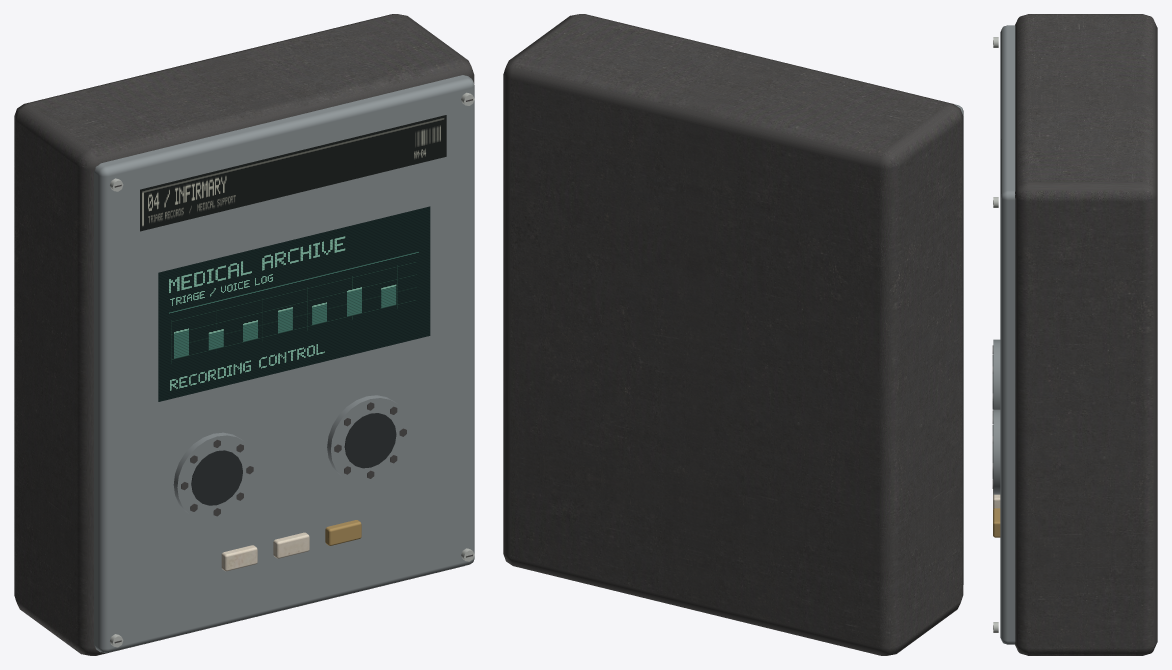
File: triage-recorder.glb
The picture shows the model from 3 angles, left to right: view 1: azimuth 30°, elevation 25°; view 2: azimuth 150°, elevation 25°; view 3: azimuth 270°, elevation 25°; orthographic projection. The views are drawn at different scales.
Visible parts, largest first — view 1: wall-housing; view 2: wall-housing; view 3: wall-housing.
Boxes of the visible parts, left/top/right/bottom form: wall-housing: left=14, top=14, right=474, bottom=655; wall-housing: left=503, top=14, right=963, bottom=655; wall-housing: left=992, top=14, right=1157, bottom=655.
Size of the model in its own units: 0.8 by 0.98 by 0.31.
Materials: 8 (4 with a texture image).
